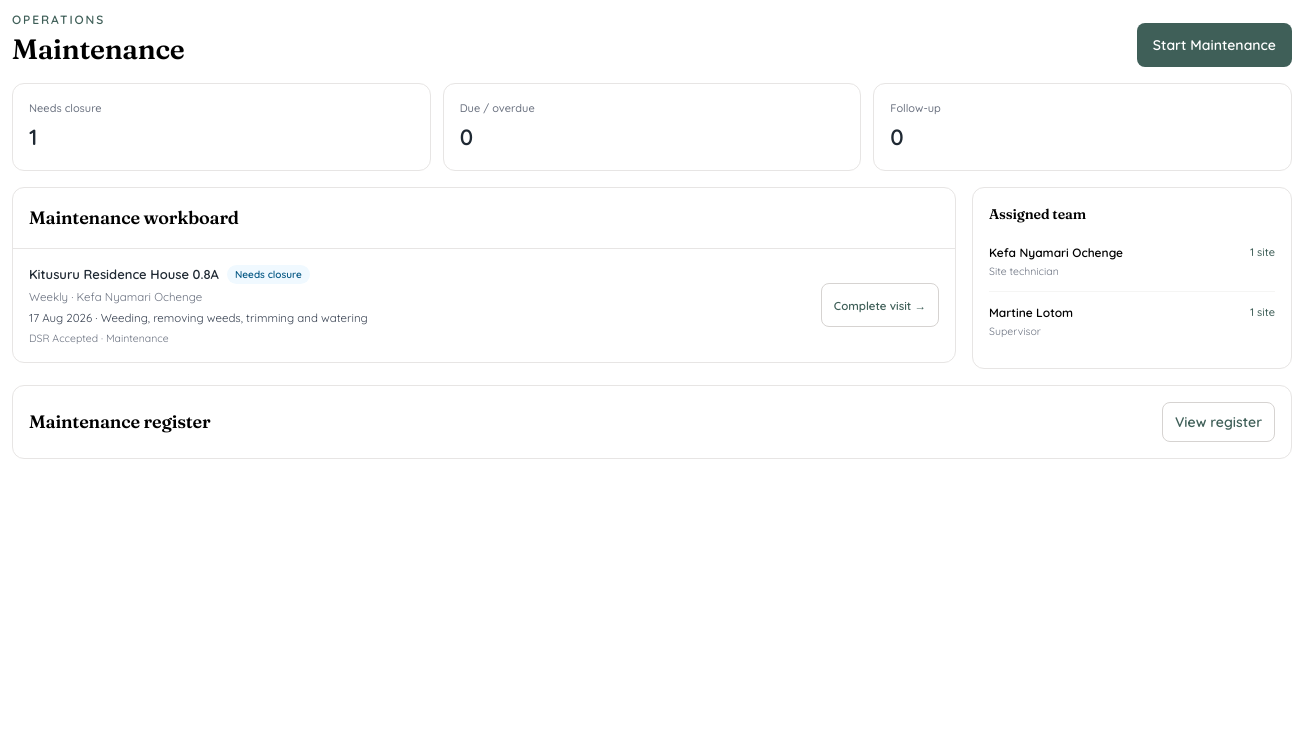
Maintenance workboard › creates a Site for a property Botanique did not build
The width and height of the screenshot is (1304, 732).
Click the button "Start Maintenance": (1214, 45) 1137,23 -> 1292,67
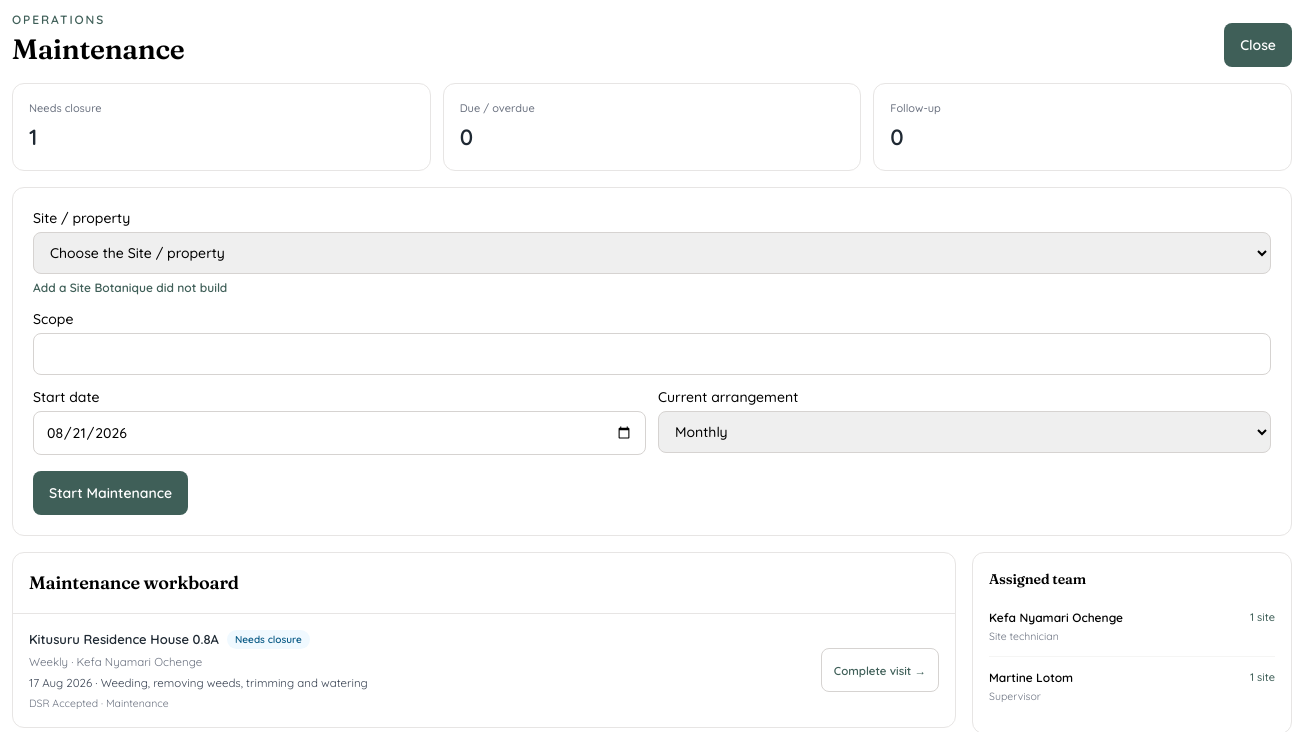
Click the button "Add a Site Botanique did not build": (130, 288) 33,280 -> 227,296
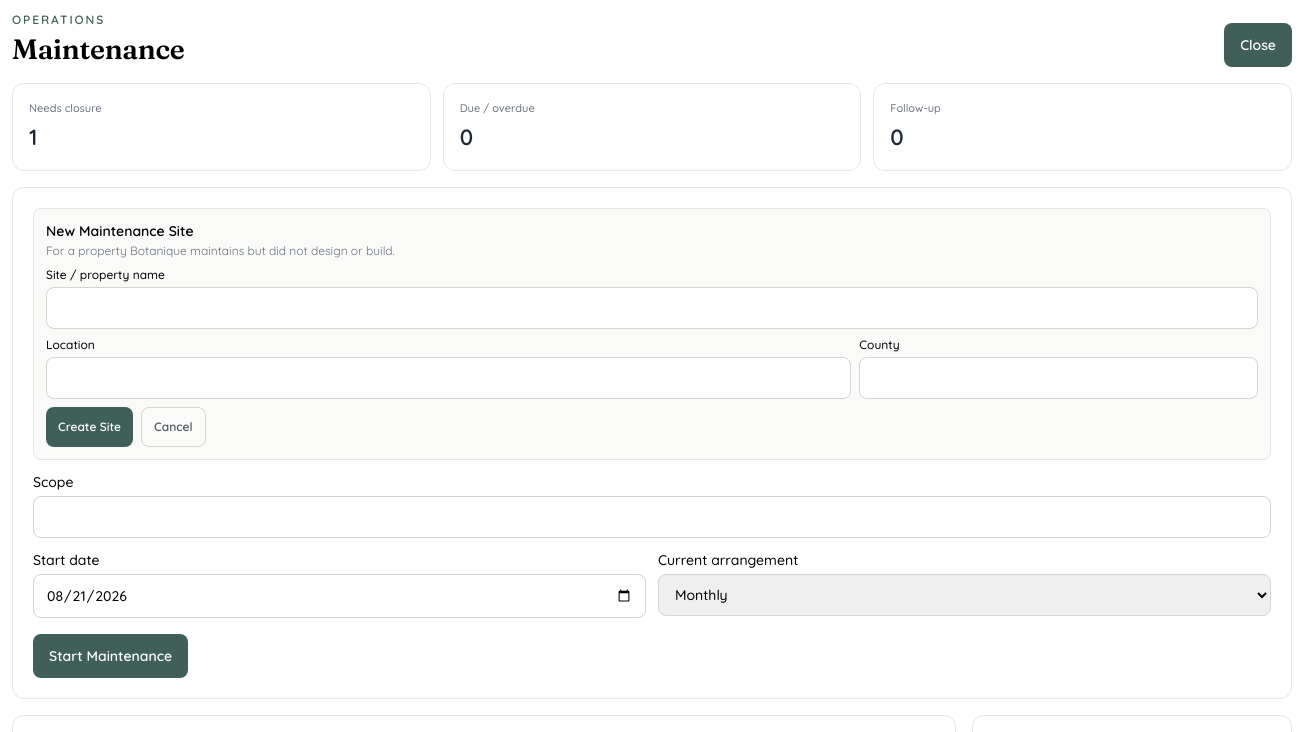
In the field labelled "Site / property name": (652, 308) 46,286 -> 1258,328, type "Riverside Court"
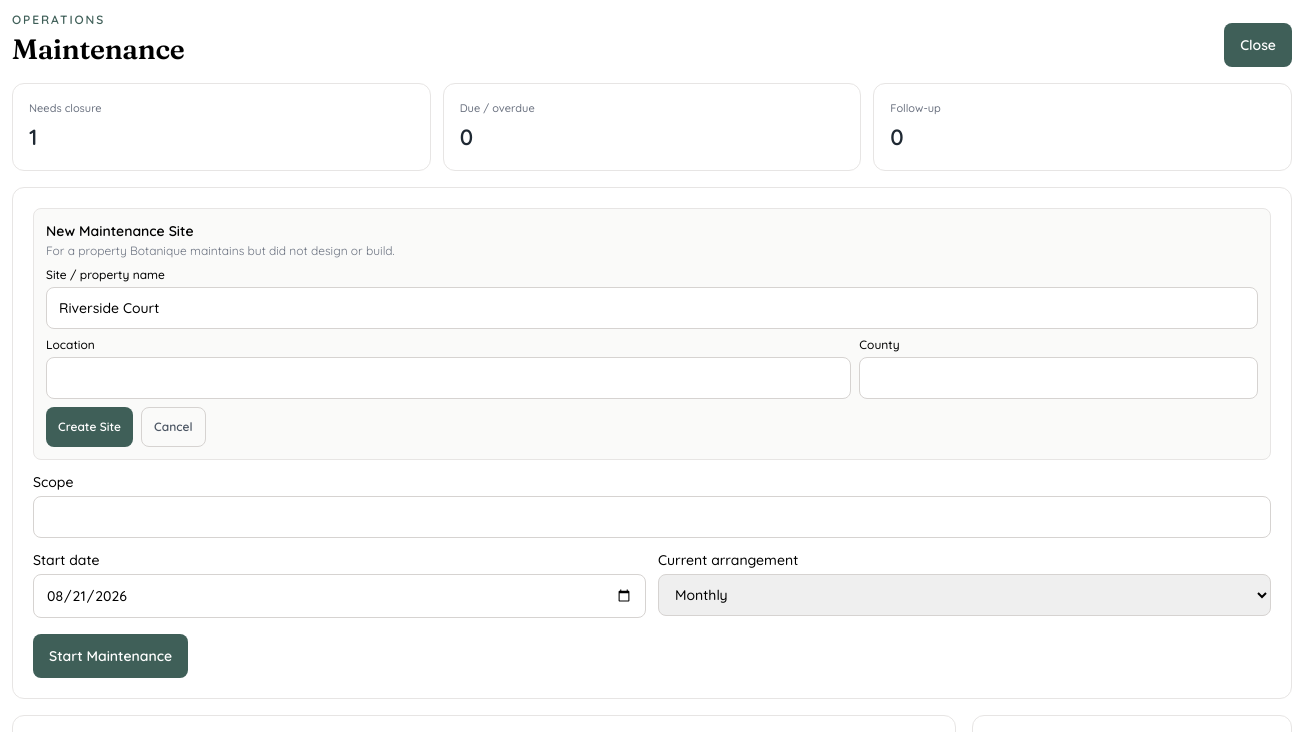
Click the button "Create Site": (90, 426) 46,406 -> 133,446
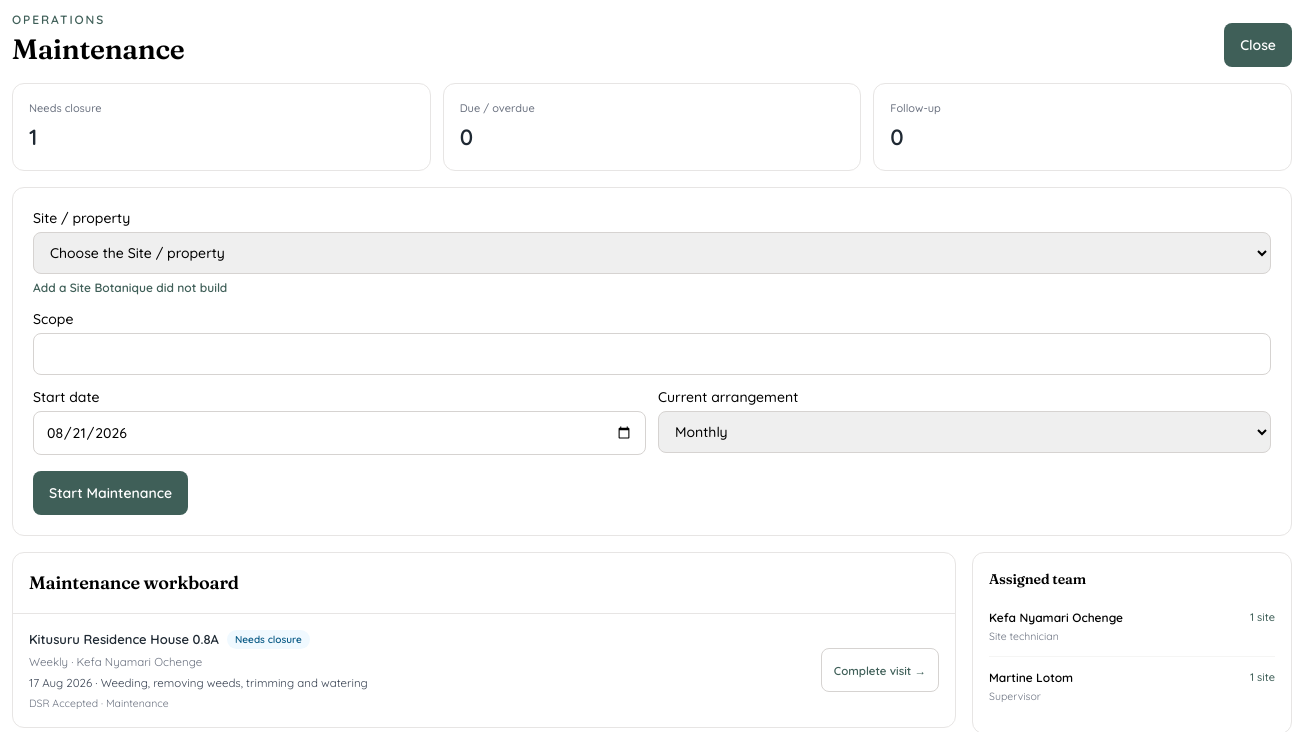
Expected: the dropdown labelled "Site / property" is shown, 33,232 -> 1271,274
